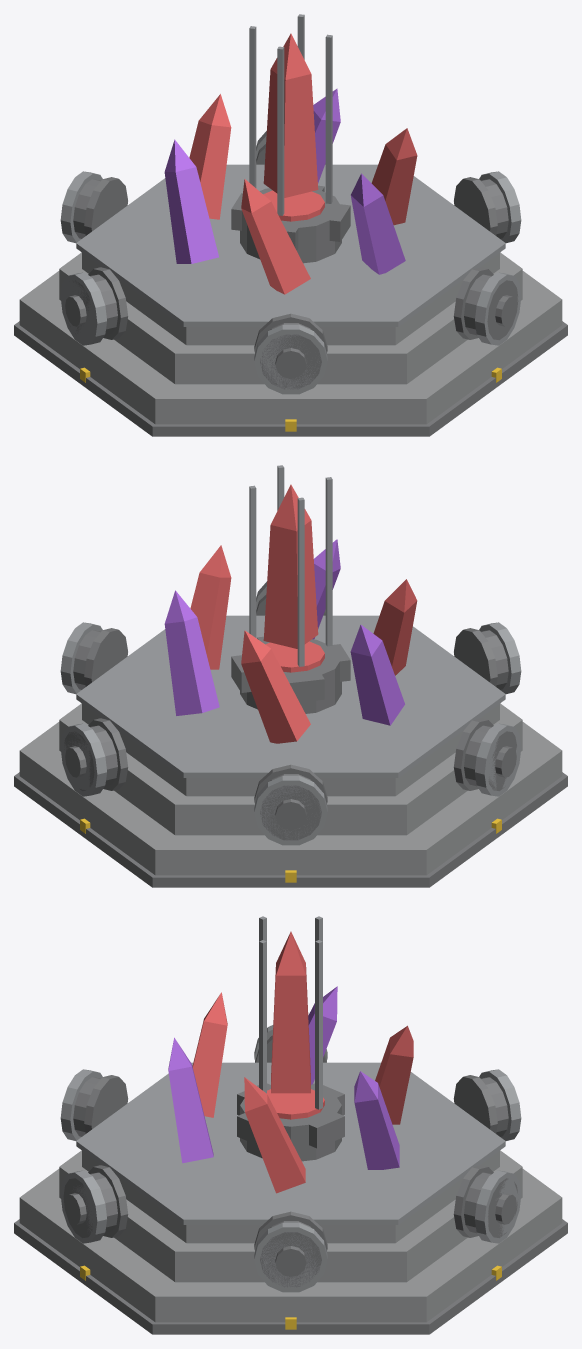
Rendered from energy_node_s3_100.glb.
3 views of the same model, one above another, from view 1: azimuth 30°, elevation 25°; view 2: azimuth 150°, elevation 25°; view 3: azimuth 270°, elevation 25° (orthographic).
Visible parts, largest first — view 1: EN_Base; view 2: EN_Base; view 3: EN_Base.
Part boxes in pixels (x1,y1,x2,y2): EN_Base: (14,14,567,436); EN_Base: (14,465,567,887); EN_Base: (14,916,567,1334).
Size of the model in its own units: 1.78 by 1.18 by 1.96.
